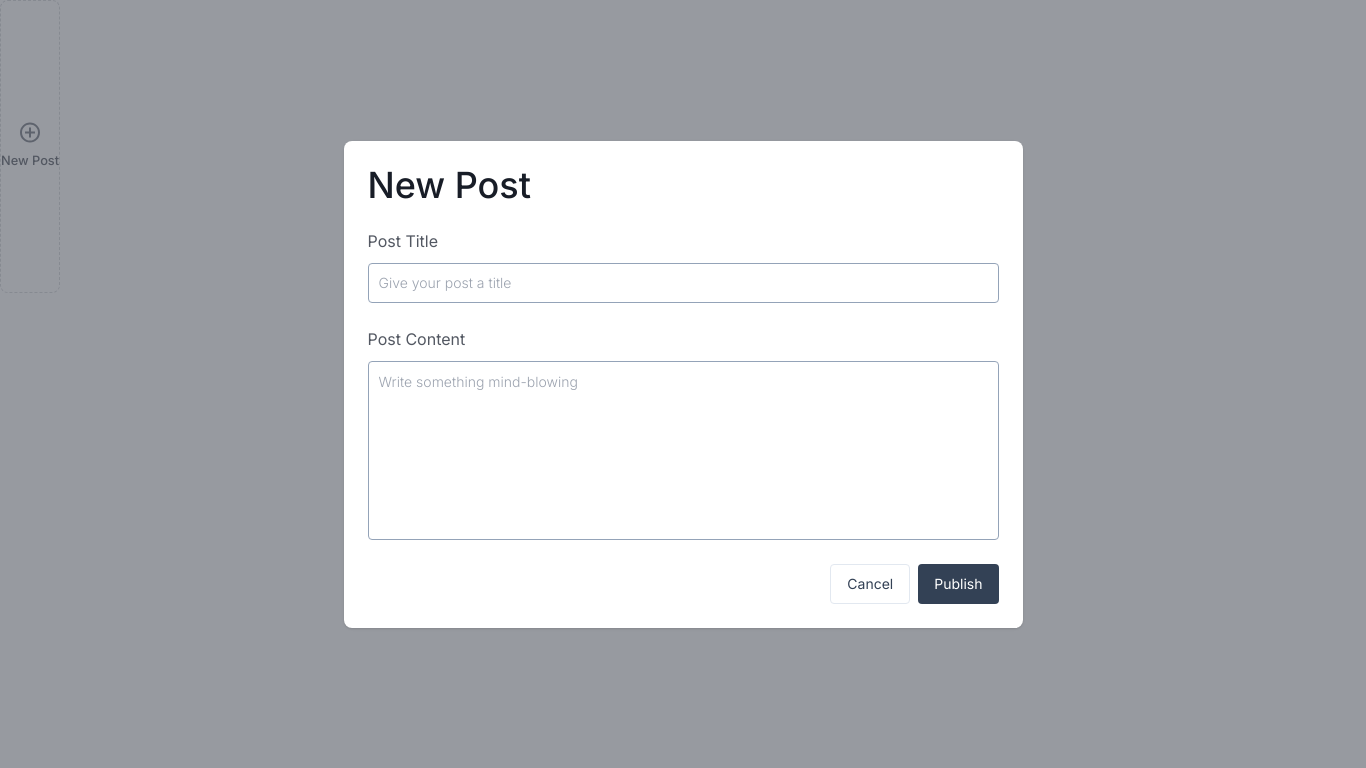
Test: AddPostCard › closes the modal and clears the form after successful submission
The width and height of the screenshot is (1366, 768).
Type "Test Title" into the field with placeholder "Give your post a title" at {"x": 683, "y": 282}, box [368,262,998,302]
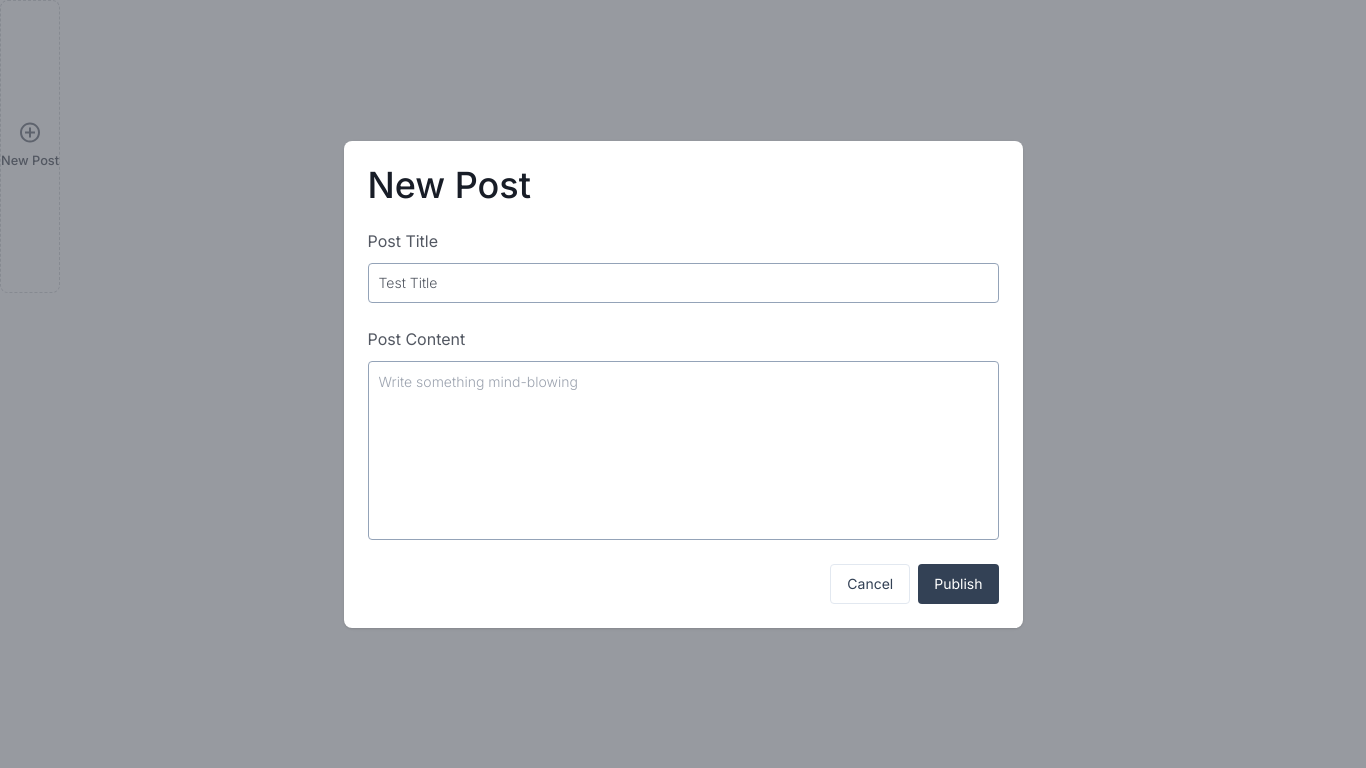
Type "Test Body" into the text box with placeholder "Write something mind-blowing" at {"x": 683, "y": 450}, box [368,360,998,540]
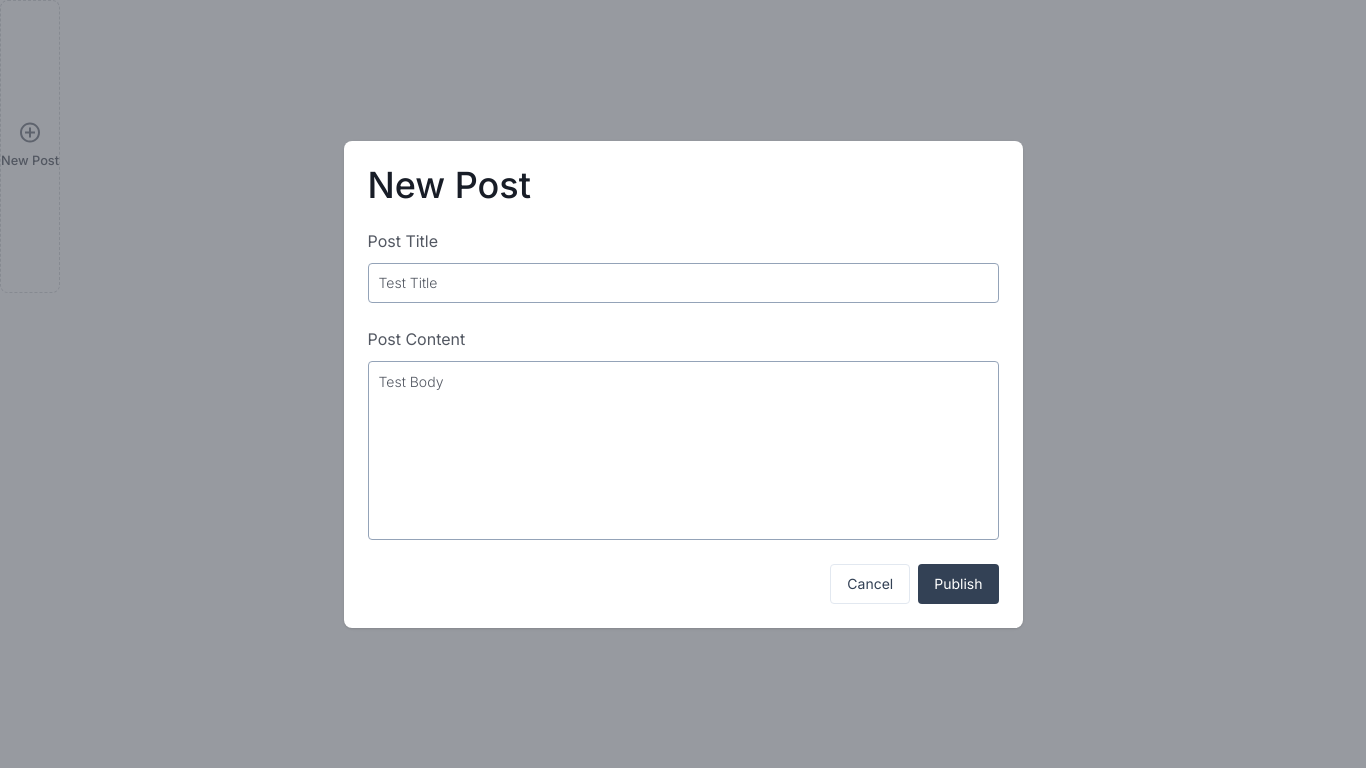
Submit the form, box [344,140,1022,628]
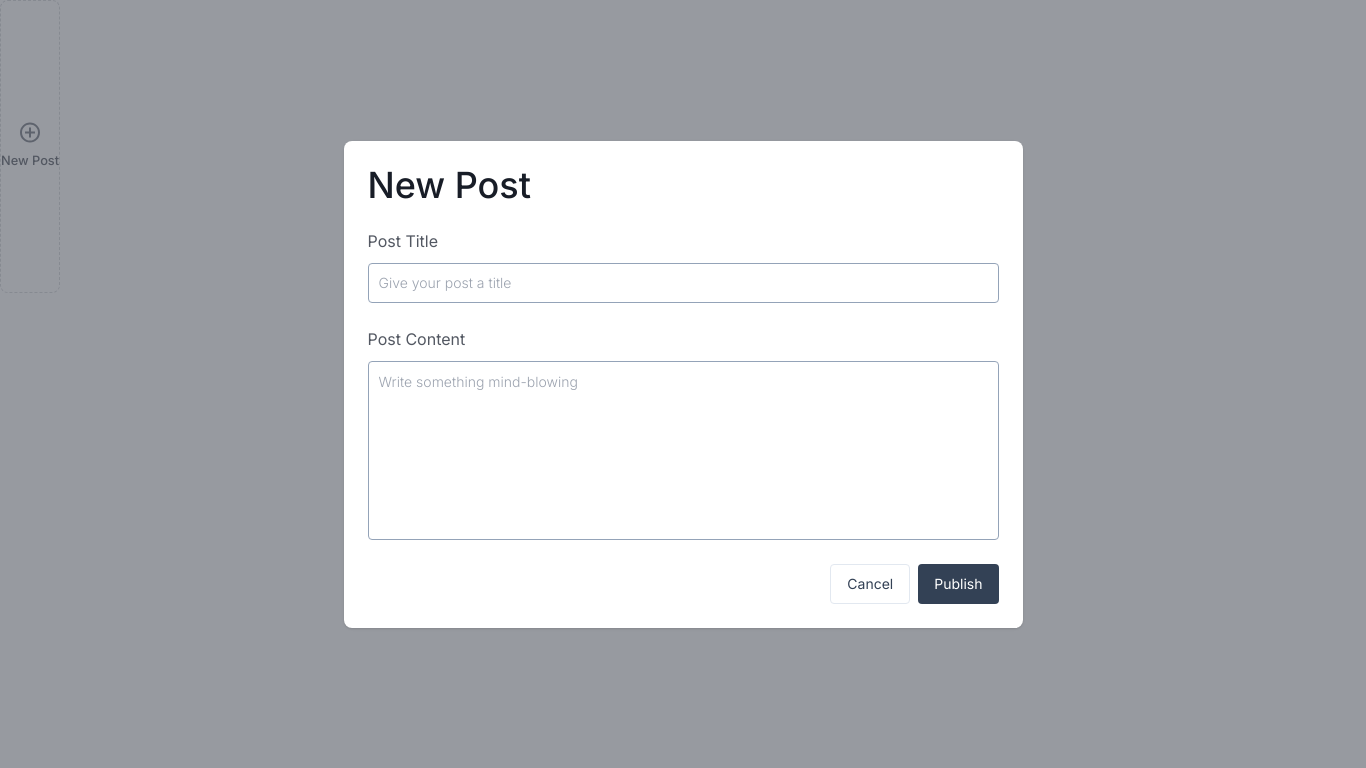
Now the field with placeholder "Give your post a title" is empty, box [368,262,998,302]
Now the text box with placeholder "Write something mind-blowing" is empty, box [368,360,998,540]
